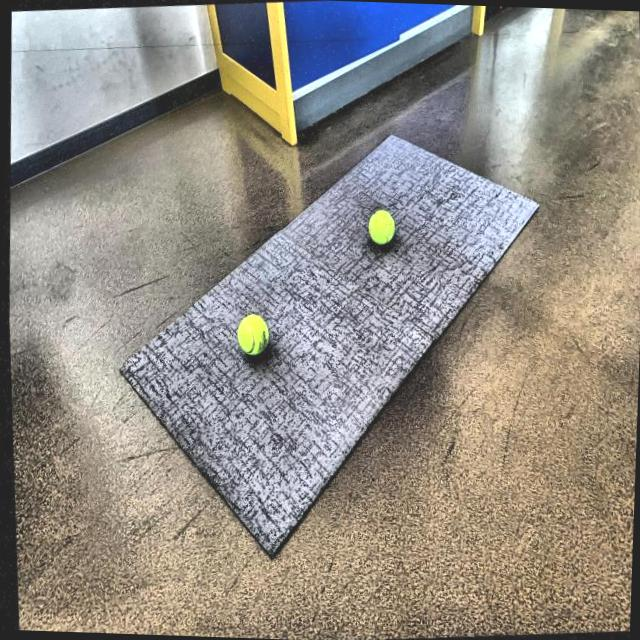Tennis Ball: (232, 310, 270, 362), (362, 203, 396, 254)
